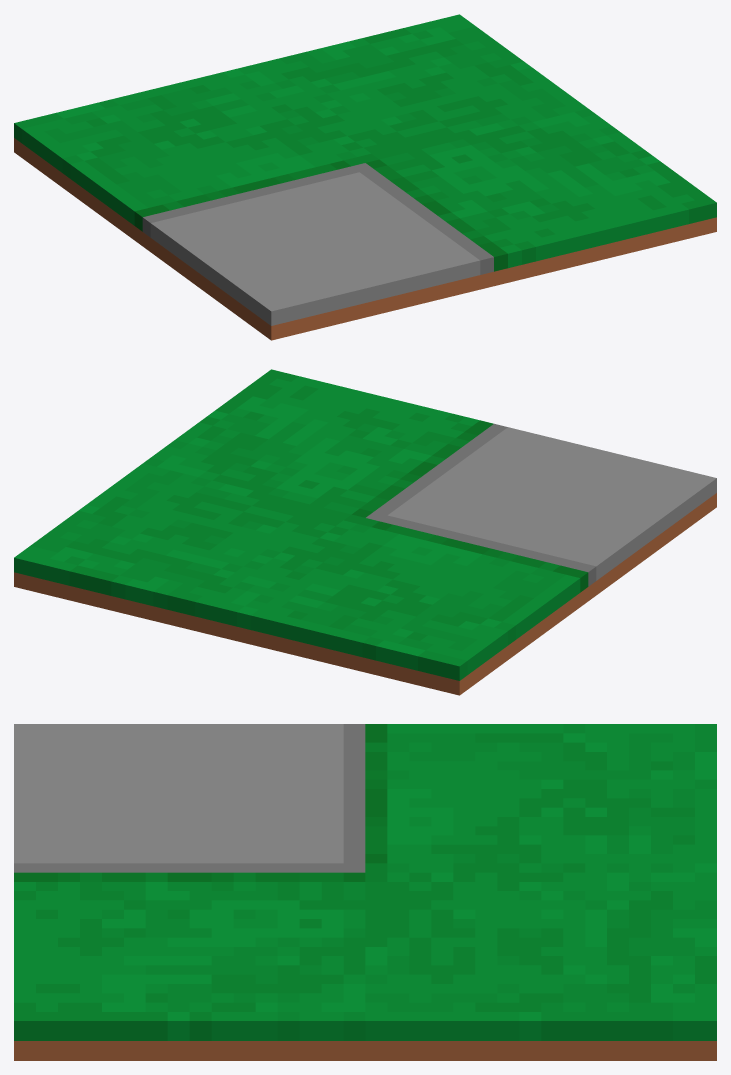
Rendered from forest-city-edgy-edge-inner-2.gltf.
3 views of the same model, one above another, from view 1: azimuth 30°, elevation 25°; view 2: azimuth 150°, elevation 25°; view 3: azimuth 270°, elevation 25° (orthographic). The views are drawn at different scales.
Visible parts, largest first — view 1: forest-city-edgy-edge-inner-2; view 2: forest-city-edgy-edge-inner-2; view 3: forest-city-edgy-edge-inner-2.
Part boxes in pixels (x1=…): forest-city-edgy-edge-inner-2: x1=14, y1=14, x2=716, y2=340; forest-city-edgy-edge-inner-2: x1=14, y1=369, x2=716, y2=695; forest-city-edgy-edge-inner-2: x1=14, y1=724, x2=716, y2=1060.
Size of the model in its own units: 3.2 by 0.2 by 3.2.
1 material, 1 textured.
